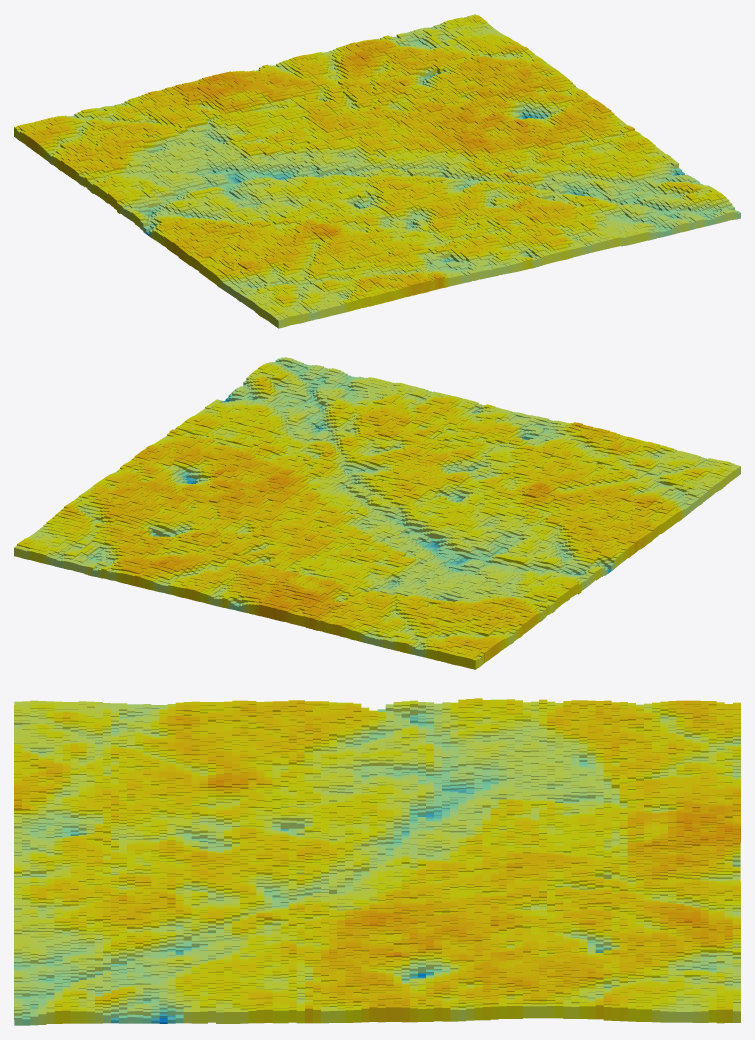
Rendered from population.glb.
3 views of the same model, one above another, from view 1: azimuth 30°, elevation 25°; view 2: azimuth 150°, elevation 25°; view 3: azimuth 270°, elevation 25° (orthographic). The views are drawn at different scales.
Parts seen in each view (by area): view 1: population; view 2: population; view 3: population.
Part boxes in pixels (left/top/right/bottom): population: left=14, top=14, right=740, bottom=328; population: left=14, top=357, right=740, bottom=669; population: left=14, top=698, right=740, bottom=1025.
Size of the model in its own units: 9058 by 312 by 8993.
